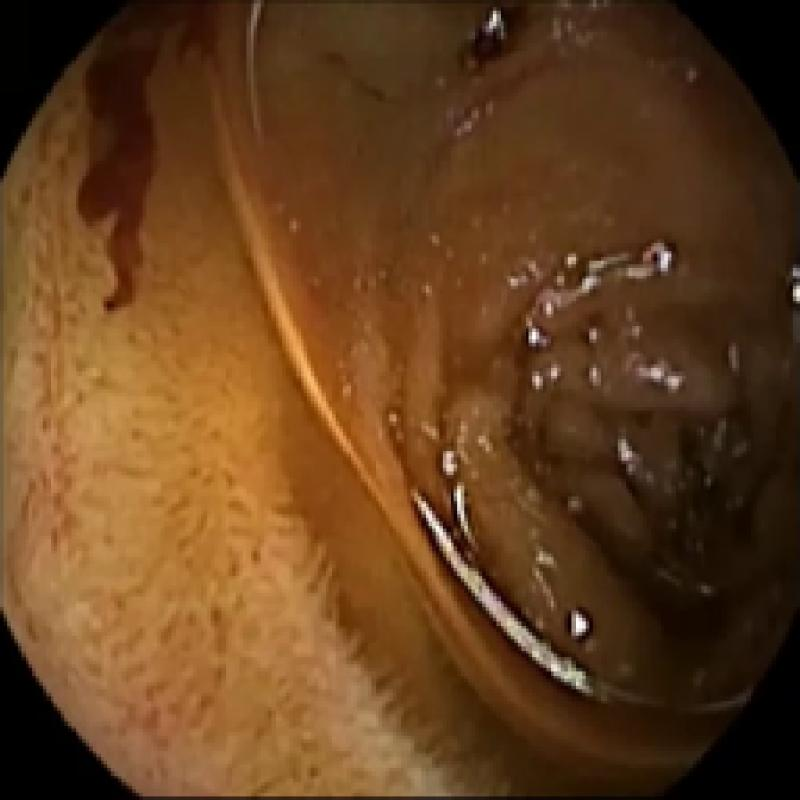bleeding: (79, 0, 200, 304), (445, 1, 533, 74)
